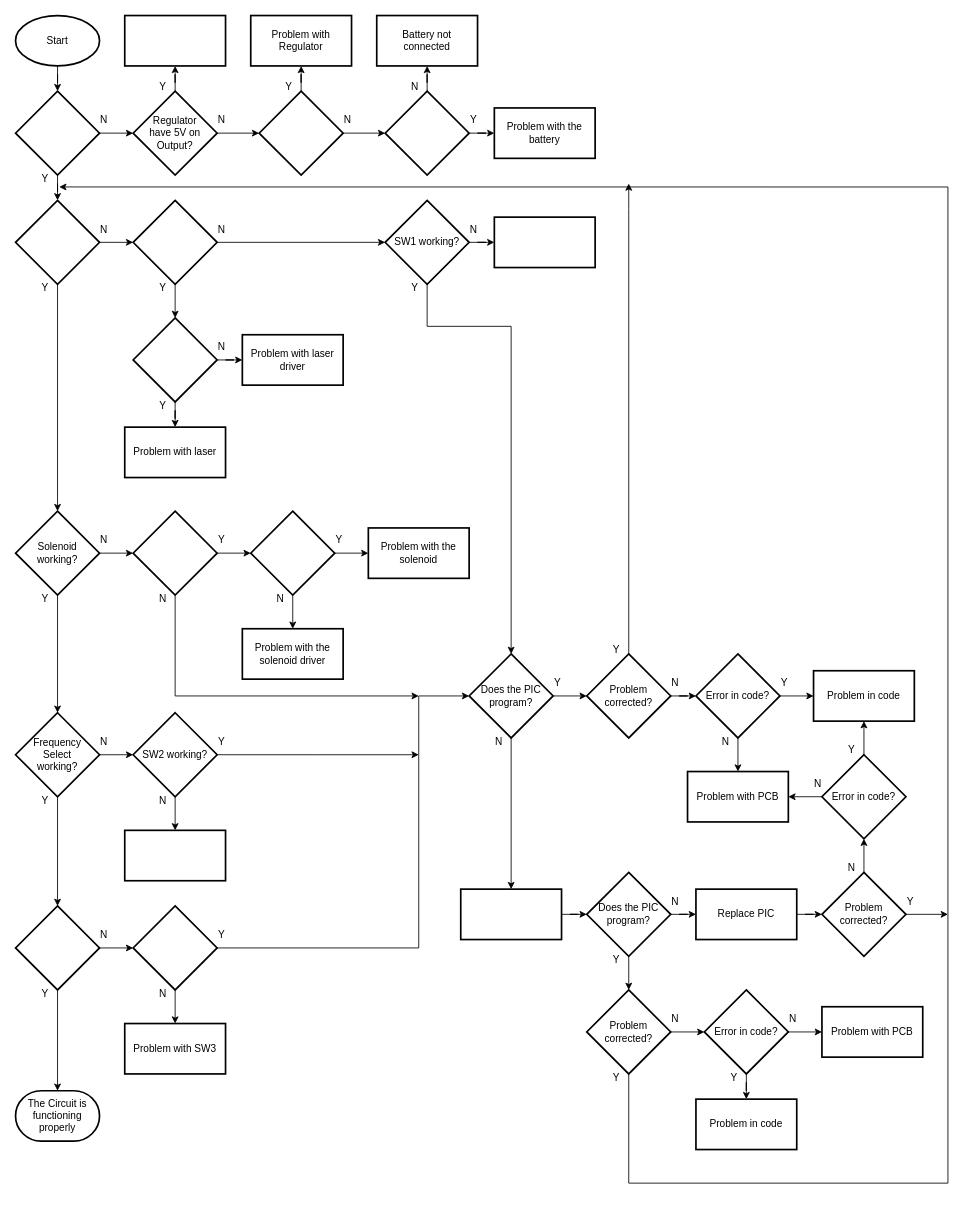
Some shapes in this 969 by 1205 pixel diagram are drawn without their labels. The centre of each missing label's shape, as x and y in pixels:
"Battery connected?" goes at (427,133).
"Connection problems with the PIC" goes at (174,40).
"Fire-Mode Select working?" goes at (57,947).
"Laser driver working?" goes at (175,359).
"Laser working?" goes at (57,242).
"PIC have power?" goes at (57,133).
"Problem with SW1" goes at (544,242).
"Problem with SW2" goes at (174,855).
"PWM output working?" goes at (175,242).
"Reflow solder joints" goes at (510,914).
"Regulator have 12V on Input?" goes at (301,133).
"Solenoid Driver working?" goes at (292,553).
"Solenoid Output working?" goes at (175,553).
"SW3 Working?" goes at (175,947).
